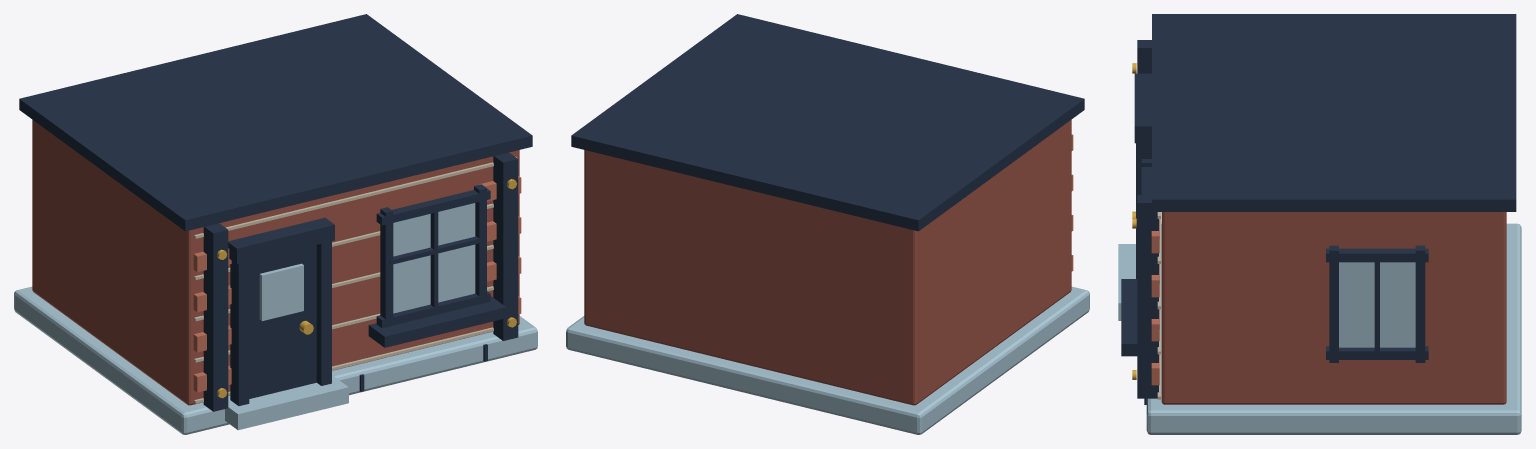
The model's file is base_house_works_0.glb.
3 renders of one model, left to right at view 1: azimuth 30°, elevation 25°; view 2: azimuth 150°, elevation 25°; view 3: azimuth 270°, elevation 25°, orthographic. The views are drawn at different scales.
Parts seen in each view (by area): view 1: base_house_works_0 ink, base_house_works_0 brick, base_house_works_0 mist, base_house_works_0 glass, base_house_works_0 mortar, base_house_works_0 clay, base_house_works_0 ochre; view 2: base_house_works_0 brick, base_house_works_0 ink, base_house_works_0 mist; view 3: base_house_works_0 ink, base_house_works_0 brick, base_house_works_0 mist, base_house_works_0 glass, base_house_works_0 clay, base_house_works_0 mortar.
Boxes of the visible parts, x1,y1,x2,y2 form: base_house_works_0 ink: [19, 14, 532, 411]; base_house_works_0 brick: [32, 119, 519, 405]; base_house_works_0 mist: [14, 286, 537, 434]; base_house_works_0 glass: [259, 203, 475, 320]; base_house_works_0 mortar: [194, 156, 516, 403]; base_house_works_0 clay: [193, 176, 521, 392]; base_house_works_0 ochre: [217, 179, 516, 398]; base_house_works_0 brick: [584, 119, 1071, 405]; base_house_works_0 ink: [571, 14, 1084, 231]; base_house_works_0 mist: [566, 286, 1089, 434]; base_house_works_0 ink: [1121, 14, 1516, 404]; base_house_works_0 brick: [1161, 212, 1506, 404]; base_house_works_0 mist: [1118, 223, 1521, 434]; base_house_works_0 glass: [1159, 219, 1415, 347]; base_house_works_0 clay: [1151, 219, 1159, 385]; base_house_works_0 mortar: [1157, 212, 1160, 399].
Size of the model in its own units: 0.8445 by 0.48 by 0.7475.
